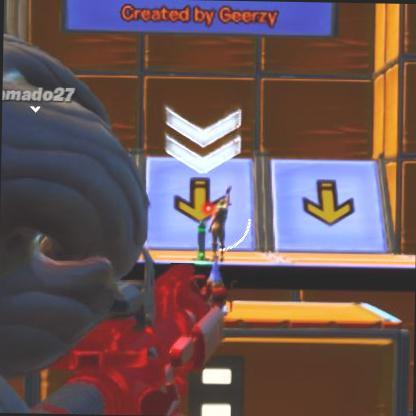person: (206, 197, 234, 260)
